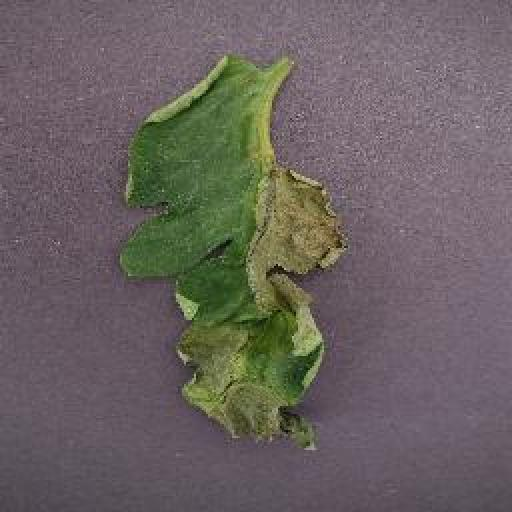disease_tomato: (117, 57, 347, 456)
